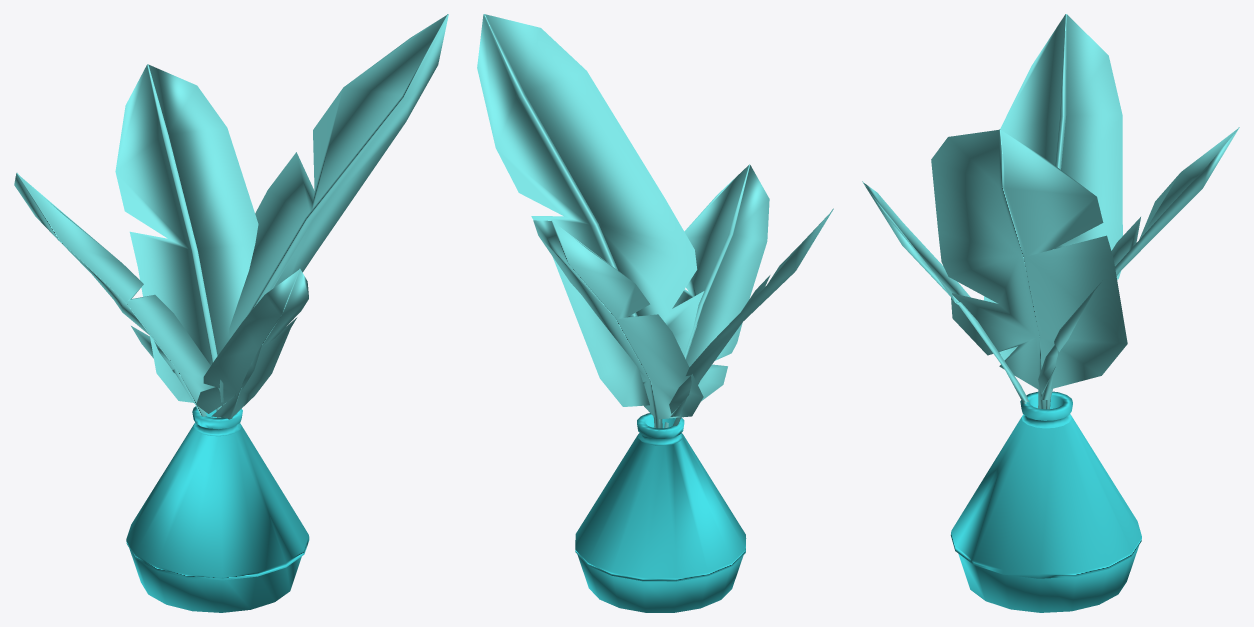
The model's file is Deko_vase_Blatter_3te.fbx.
The picture shows the model from 3 angles, left to right: view 1: azimuth 30°, elevation 25°; view 2: azimuth 150°, elevation 25°; view 3: azimuth 270°, elevation 25°; orthographic projection. The views are drawn at different scales.
Parts seen in each view (by area): view 1: Plane.003; view 2: Plane.003; view 3: Plane.003.
Boxes of the visible parts, x1,y1,x2,y2 form: Plane.003: (14,14,448,612); Plane.003: (477,14,833,612); Plane.003: (862,14,1239,612).
Bounding box in the file's own units: 123 × 156 × 96.2.
